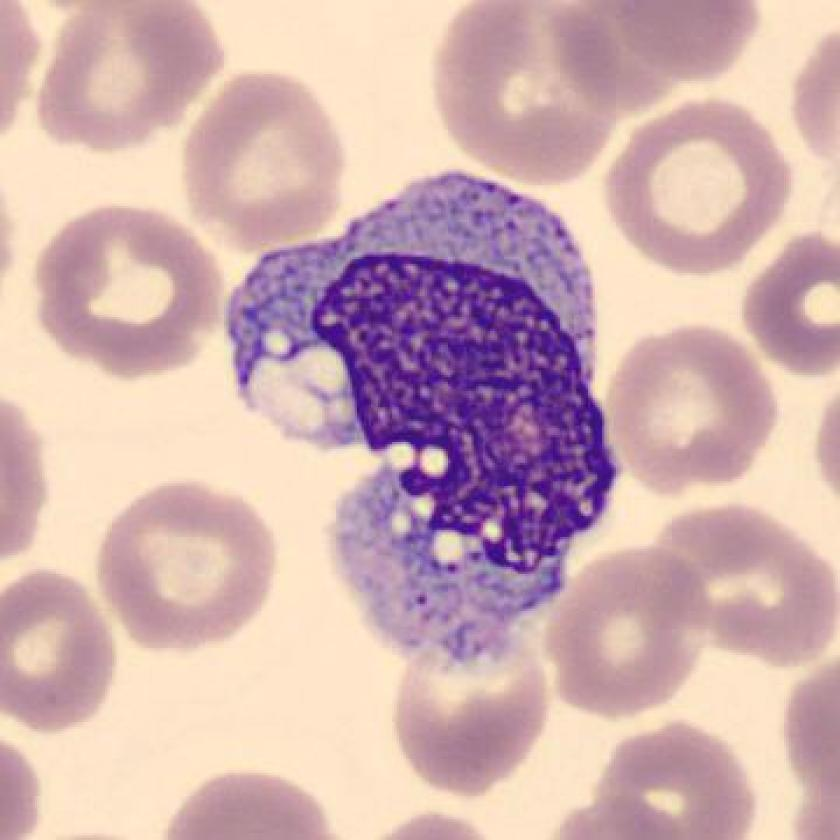monocyte: (202, 147, 645, 709)
